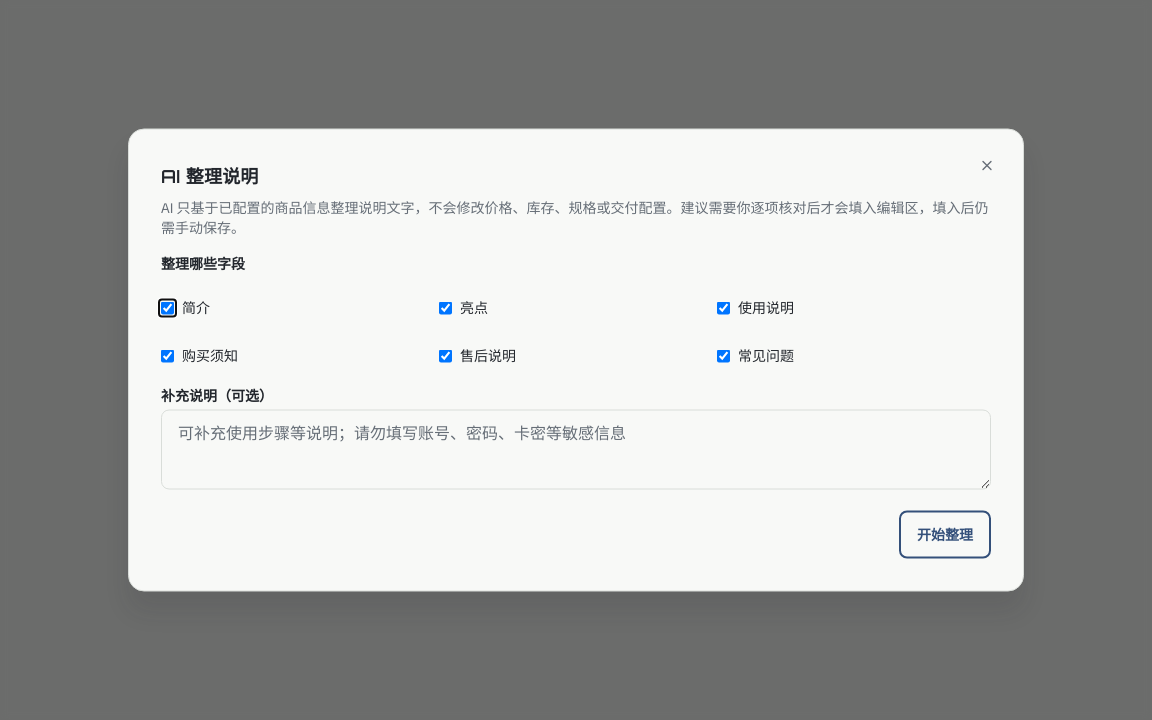
Test: ProductContentSuggestionDialog (SPEC-AI-PRODUCT-001 §8) › sends the editor contentVersion and selected fields, without upstream for merchants
Click the checkbox with test id "content-suggestion-target-faq" at point(724, 356), box [717,349,730,362]
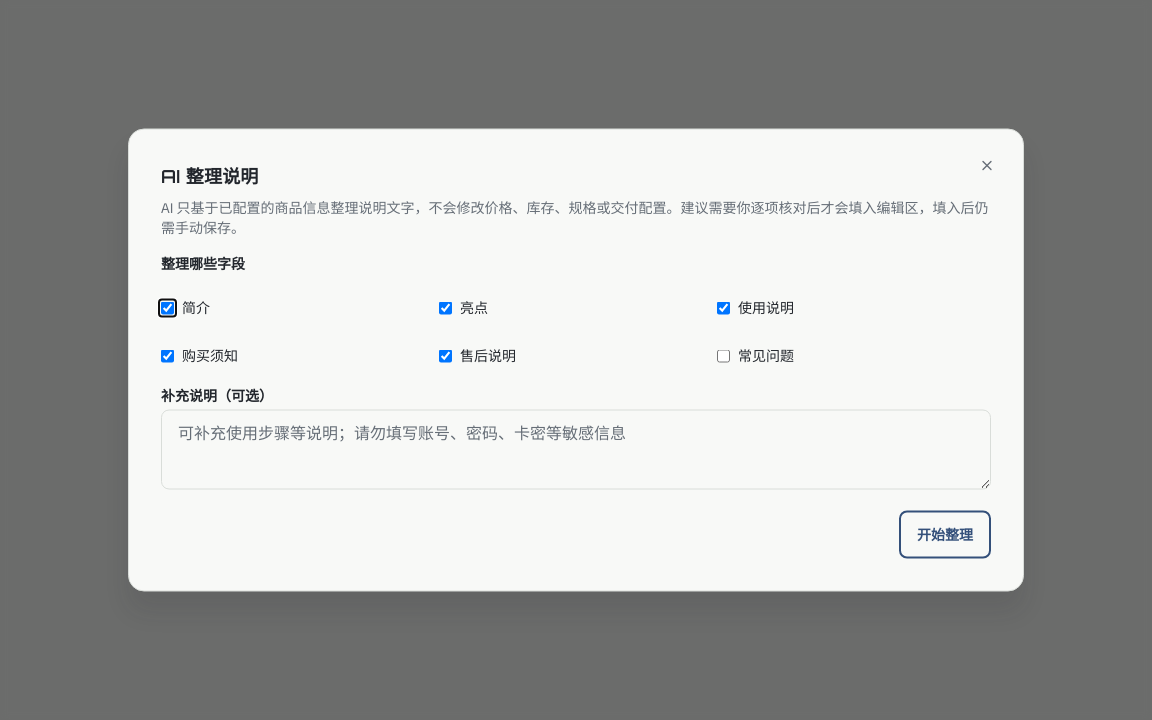
Type "  先登录  " into the text box with test id "content-suggestion-notes" at point(576, 450), box [161,410,991,490]
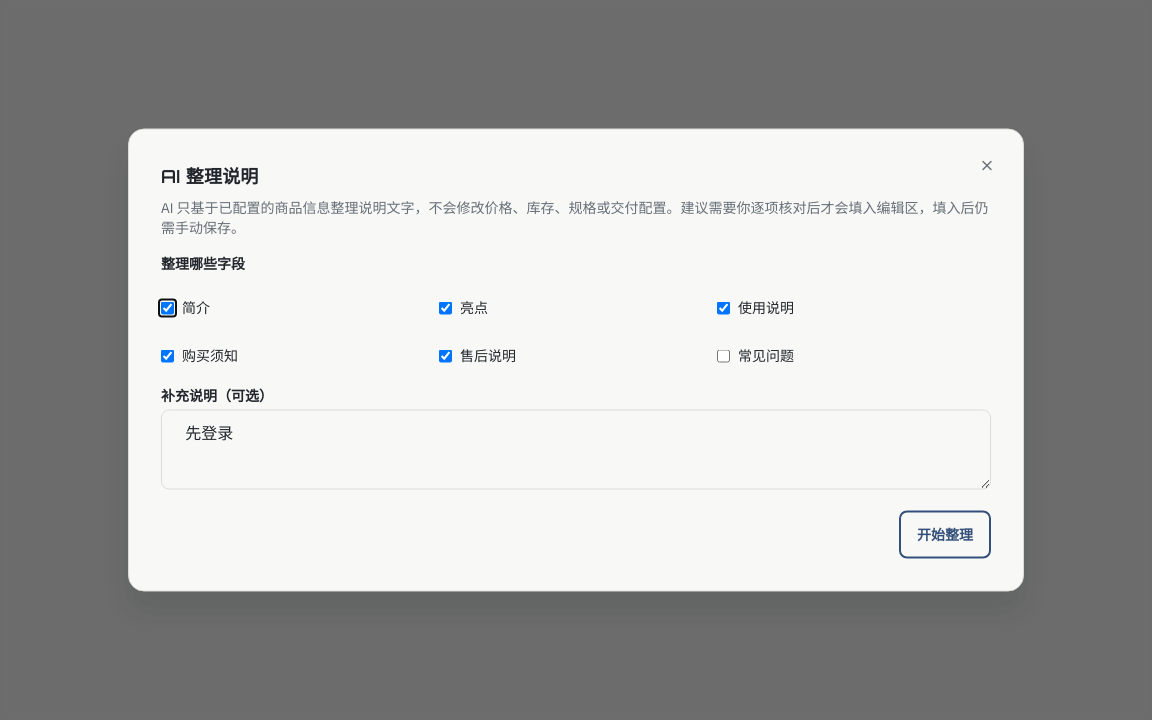
Click the button with test id "content-suggestion-generate" at point(945, 534), box [899,510,991,558]
(page scrolled)
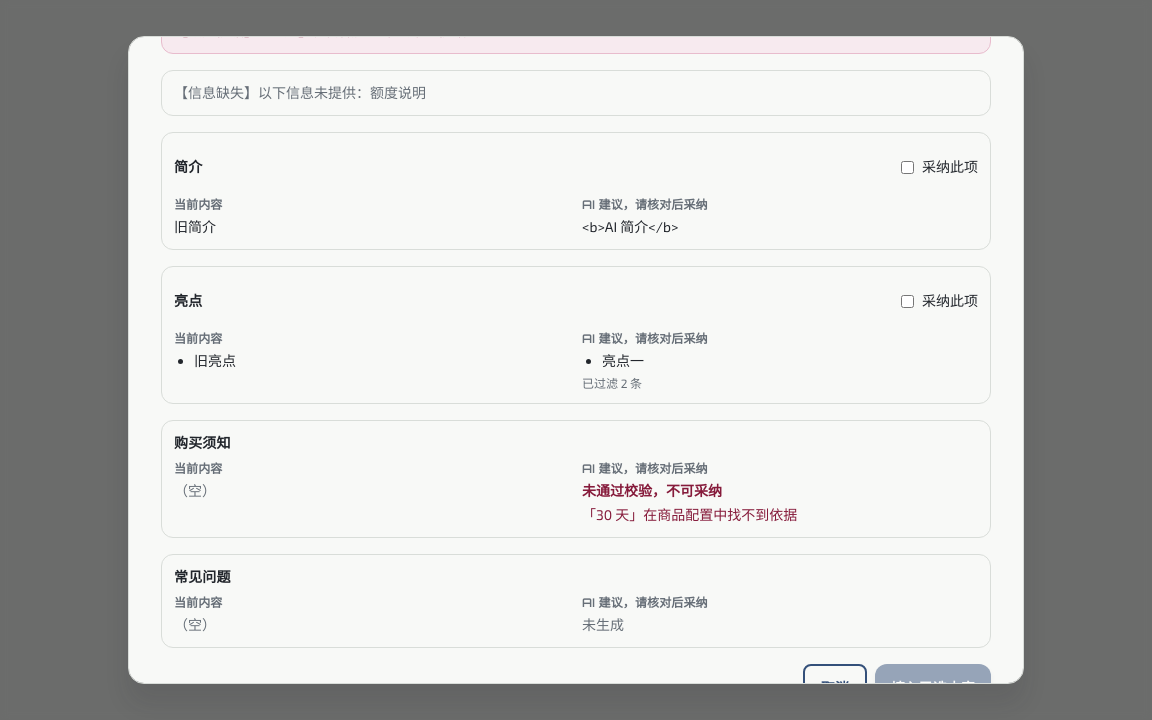
Check: the element with test id "content-suggestion-result" is shown
